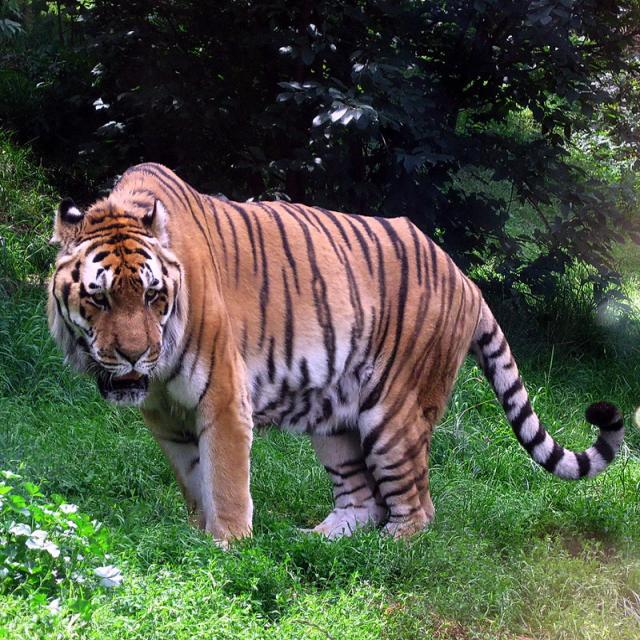Tiger: (44, 162, 622, 546)
